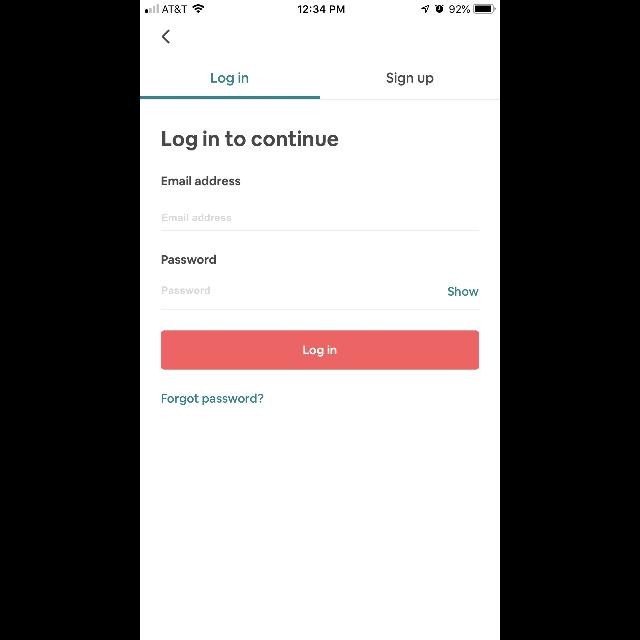icon: (162, 30, 170, 44)
input: (161, 286, 479, 310), (161, 213, 479, 230)
text: (162, 131, 338, 151), (162, 393, 264, 405), (162, 177, 240, 186), (386, 72, 434, 86), (162, 214, 232, 222), (162, 254, 216, 264), (212, 72, 248, 86), (162, 286, 210, 294), (448, 286, 478, 296)
textbutton: (161, 330, 479, 370)
uppertaskbar: (140, 0, 500, 14)
